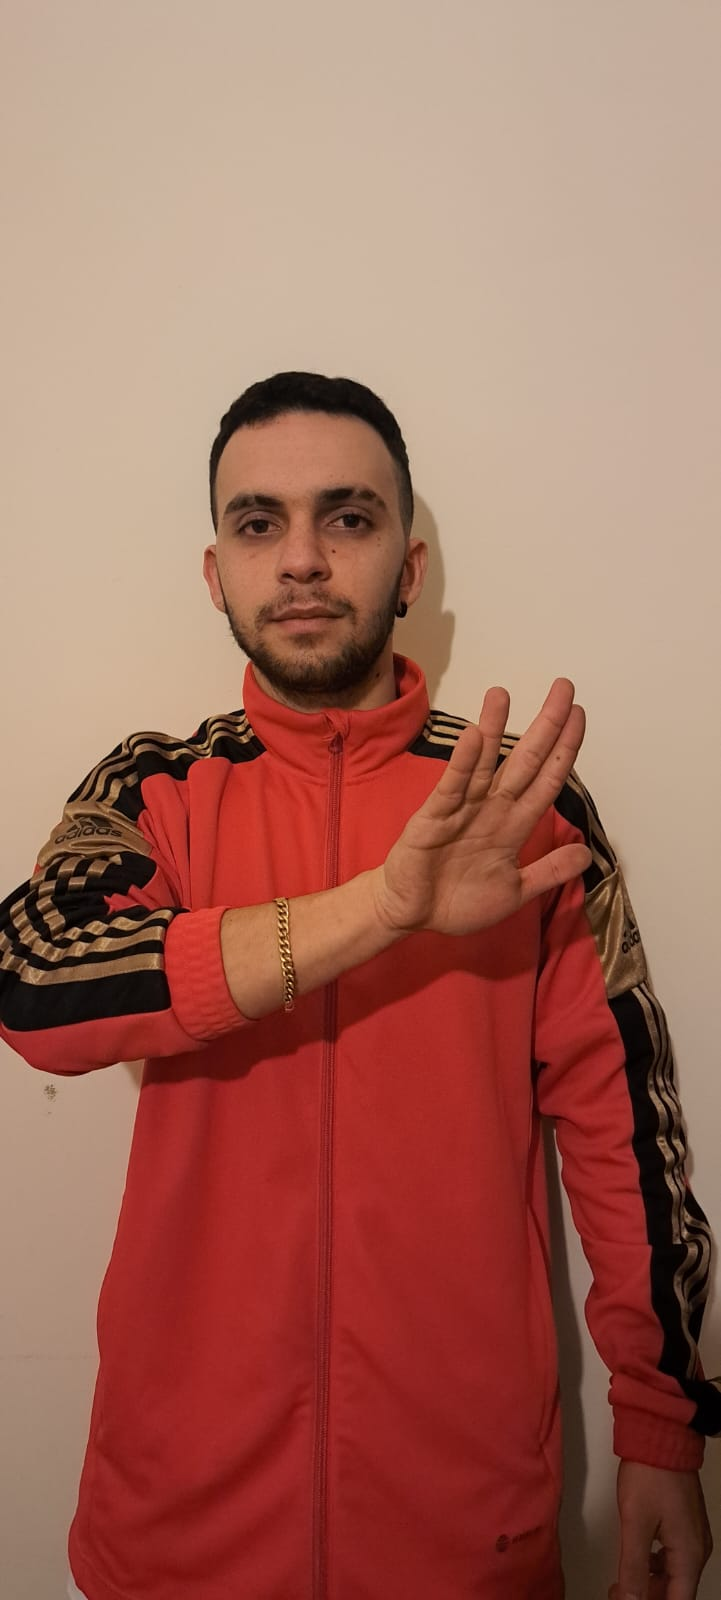alien: (400, 676, 601, 919)
